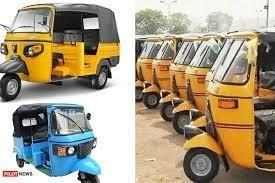keke: (180, 29, 275, 182), (2, 1, 125, 102), (12, 102, 106, 182)
